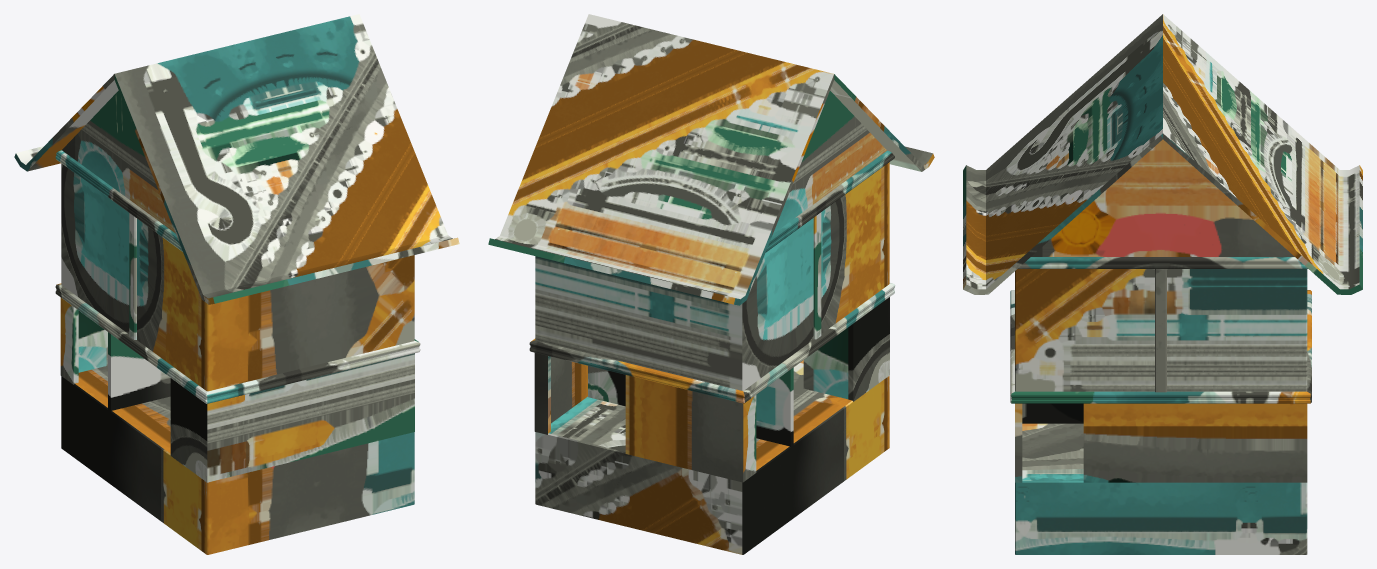
The model's file is WindmillHouseBase.fbx.
3 renders of one model, left to right at view 1: azimuth 30°, elevation 25°; view 2: azimuth 150°, elevation 25°; view 3: azimuth 270°, elevation 25°, orthographic.
Visible parts, largest first — view 1: WindmillHouseOtherFloors.001, Roof_low, WindmillHouseOutsideWalls.001; view 2: WindmillHouseOtherFloors.001, Roof_low, WindmillHouseOutsideWalls.001; view 3: WindmillHouseOtherFloors.001, Roof_low, WindmillHouseOutsideWalls.001.
Part boxes in pixels (box(x1,y1,x2,y2)): WindmillHouseOtherFloors.001: box(55, 90, 420, 554); Roof_low: box(14, 14, 459, 304); WindmillHouseOutsideWalls.001: box(60, 297, 414, 482); WindmillHouseOtherFloors.001: box(529, 91, 895, 554); Roof_low: box(488, 14, 934, 305); WindmillHouseOutsideWalls.001: box(534, 297, 889, 482); WindmillHouseOtherFloors.001: box(1010, 139, 1311, 554); Roof_low: box(963, 14, 1362, 294); WindmillHouseOutsideWalls.001: box(1015, 403, 1307, 482).
Size of the model in its own units: 11.95 by 20.12 by 16.92.
